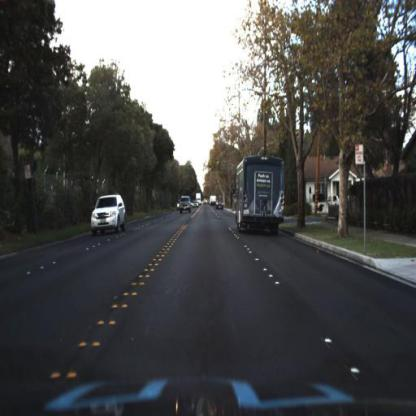car: (89, 182, 132, 238), (178, 192, 195, 216), (214, 195, 230, 216), (180, 194, 193, 218)
truck: (235, 151, 287, 232)
